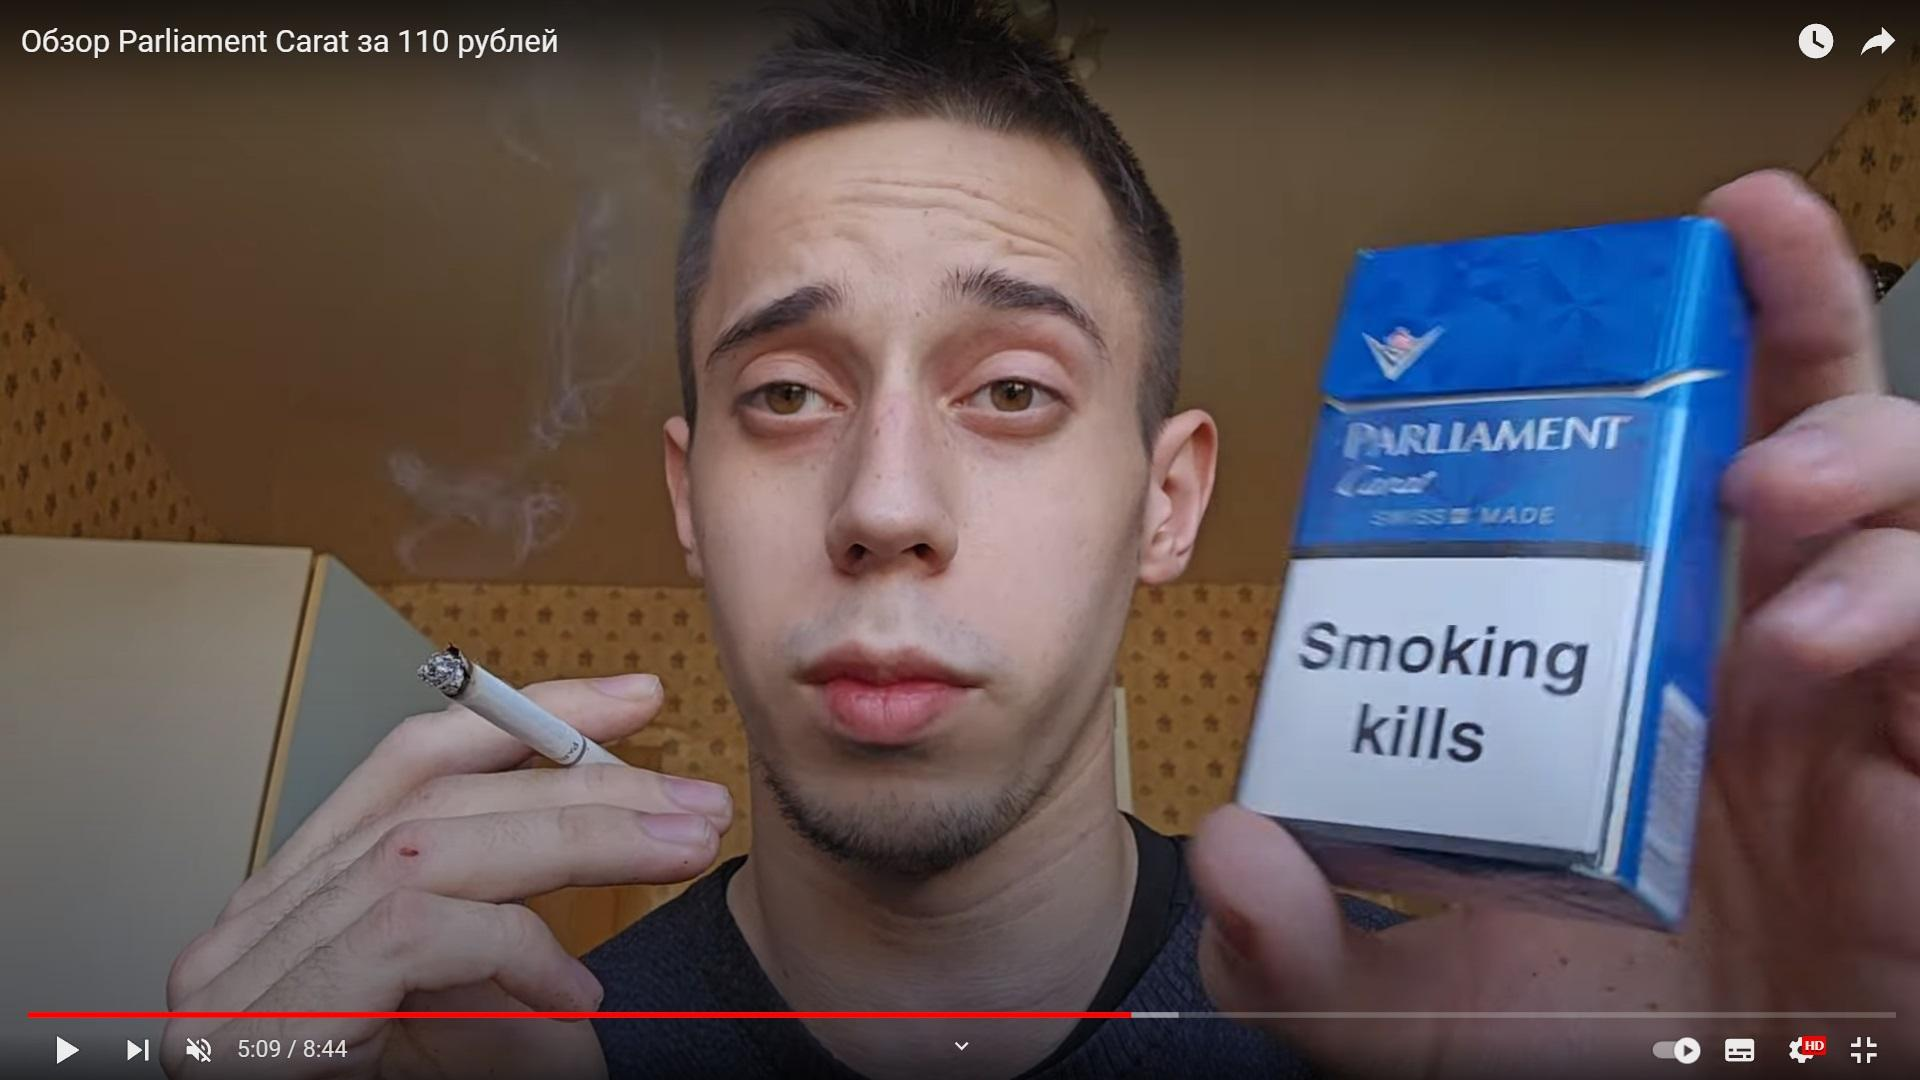cigarette: (419, 645, 618, 765)
